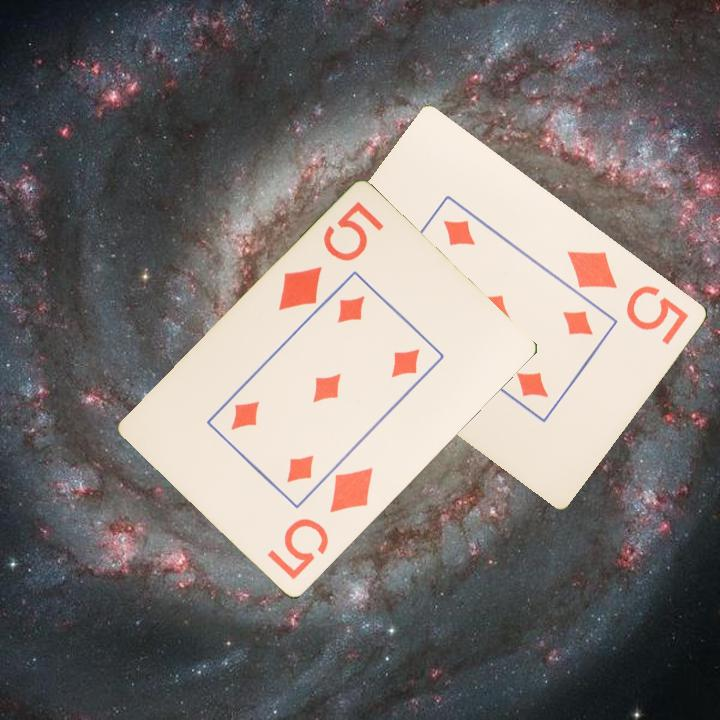5d: (263, 464, 377, 583), (274, 198, 387, 315), (564, 247, 692, 348)
